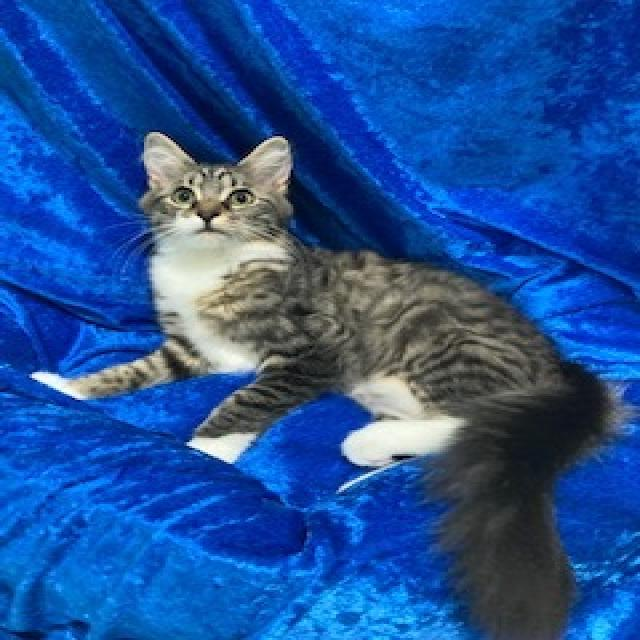maine_coon_cat: (120, 121, 311, 278)
